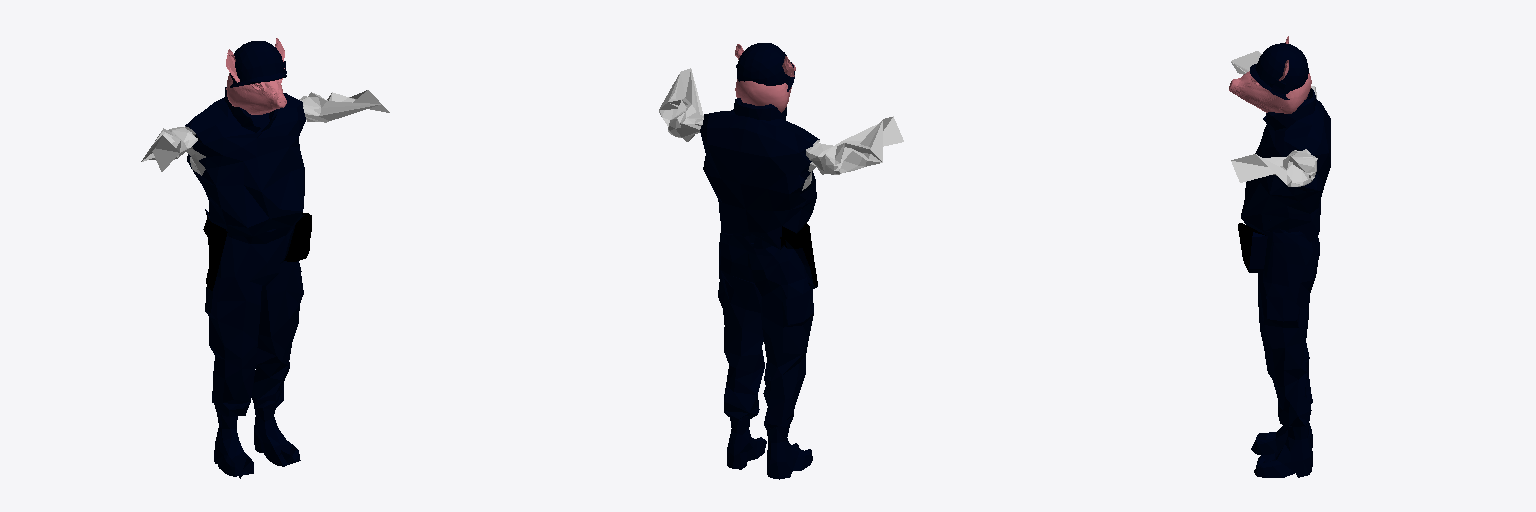
The model's file is soldier.obj.
3 renders of one model, left to right at view 1: azimuth 30°, elevation 25°; view 2: azimuth 150°, elevation 25°; view 3: azimuth 270°, elevation 25°, orthographic.
Visible parts, largest first — view 1: group_Default, Sphere; view 2: group_Default, Sphere; view 3: group_Default, Sphere.
Part boxes in pixels (left/top/right/bottom): group_Default: left=141, top=41, right=389, bottom=478; Sphere: left=226, top=38, right=286, bottom=114; group_Default: left=659, top=43, right=903, bottom=479; Sphere: left=735, top=44, right=795, bottom=112; group_Default: left=1231, top=43, right=1330, bottom=477; Sphere: left=1229, top=36, right=1311, bottom=113.
Bounding box in the file's own units: 7.23 × 12.67 × 2.77.